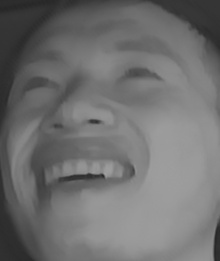eye: (114, 57, 171, 90), (17, 70, 60, 97)
mouth: (31, 144, 136, 203)
